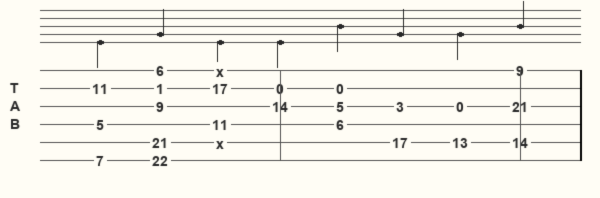0: (276, 81, 288, 95), (336, 81, 348, 95), (456, 99, 468, 113)
1: (156, 81, 168, 95)
11: (92, 81, 112, 95), (212, 117, 232, 131)
13: (452, 135, 472, 149)
14: (272, 99, 292, 113), (512, 135, 532, 149)
17: (212, 81, 232, 95), (392, 135, 412, 149)
21: (152, 135, 172, 149), (512, 99, 532, 113)
22: (152, 153, 172, 167)
3: (396, 99, 408, 113)
5: (96, 117, 108, 131), (336, 99, 348, 113)
6: (156, 63, 168, 77), (336, 117, 348, 131)
7: (96, 153, 108, 167)
9: (156, 99, 168, 113), (516, 63, 528, 77)
x: (216, 64, 228, 76), (216, 136, 228, 148)
